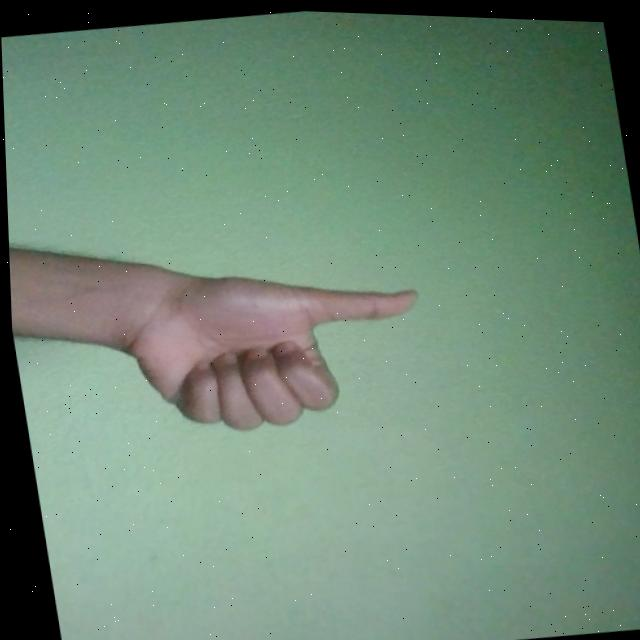Good Job: (107, 247, 434, 449)
